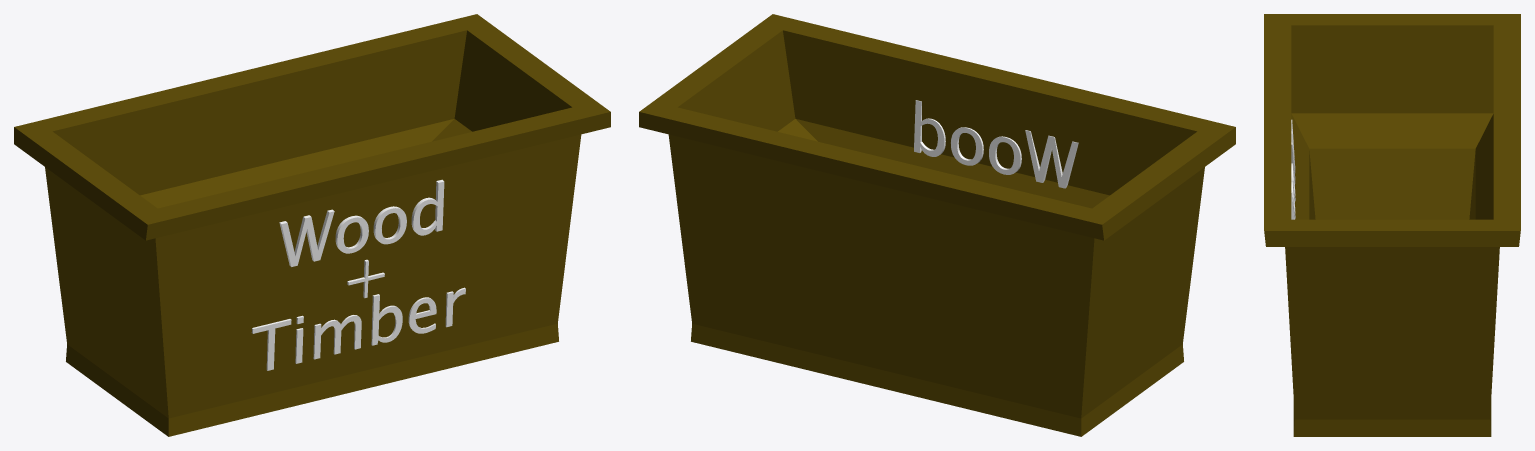
File: Tip Container Wood and Timber.fbx
3 views of the same model, side by side, from view 1: azimuth 30°, elevation 25°; view 2: azimuth 150°, elevation 25°; view 3: azimuth 270°, elevation 25° (orthographic). The views are drawn at different scales.
Visible parts, largest first — view 1: pCube2, typeMesh1; view 2: pCube2, typeMesh1; view 3: pCube2, typeMesh1.
Boxes of the visible parts, box(x1,y1,x2,y2) form: pCube2: box(14, 14, 610, 436); typeMesh1: box(251, 179, 465, 370); pCube2: box(639, 14, 1235, 436); typeMesh1: box(914, 100, 1078, 188); pCube2: box(1264, 14, 1520, 436); typeMesh1: box(1291, 119, 1295, 219).
Size of the model in its own units: 10.48 by 5 by 5.22.
